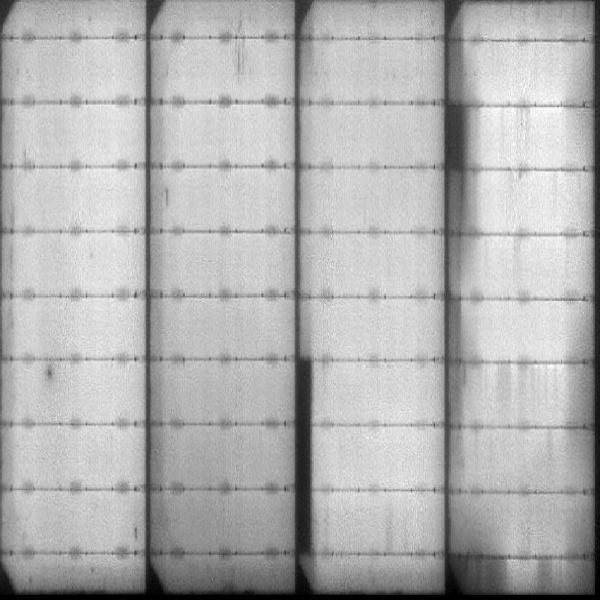black_border: (293, 348, 314, 552), (447, 100, 466, 179)
scratch: (228, 20, 249, 75), (163, 184, 173, 211)
